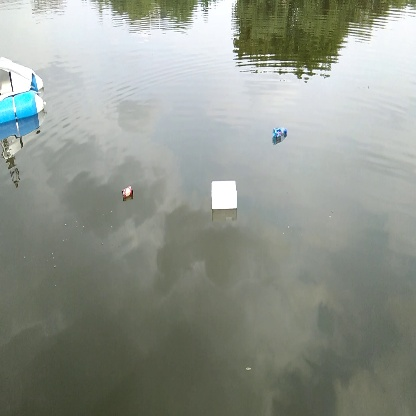bottle: (271, 124, 289, 141), (120, 186, 141, 197)
plastic-garbage: (208, 179, 242, 213)
